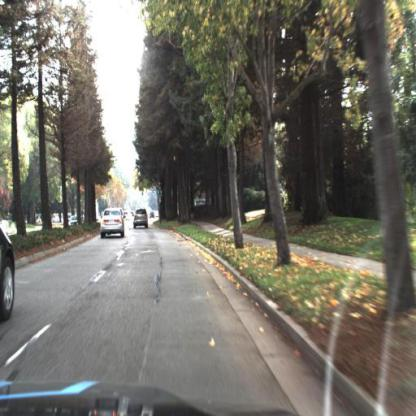car: (1, 201, 26, 337), (99, 208, 127, 240), (134, 206, 149, 232), (67, 215, 88, 231), (150, 211, 157, 223)
